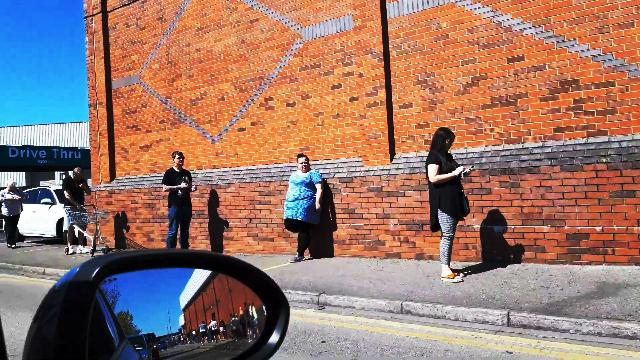berdiri: (420, 122, 476, 284), (276, 148, 334, 260)
